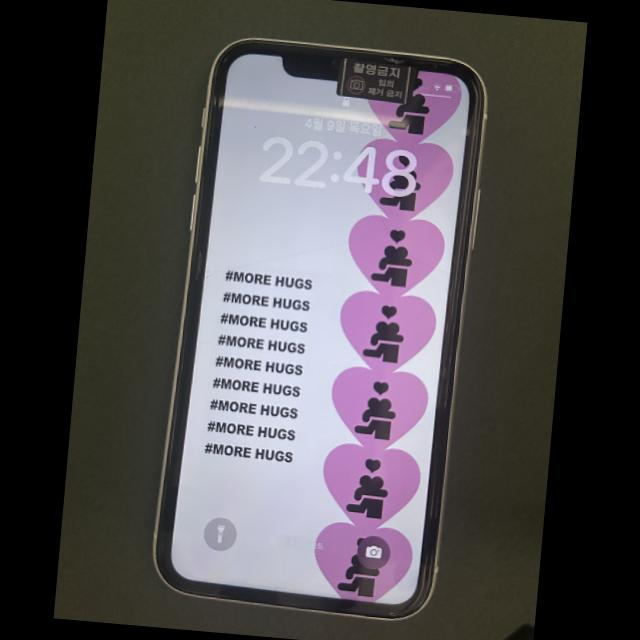phone: (155, 40, 486, 618)
sticker: (336, 57, 417, 104)
